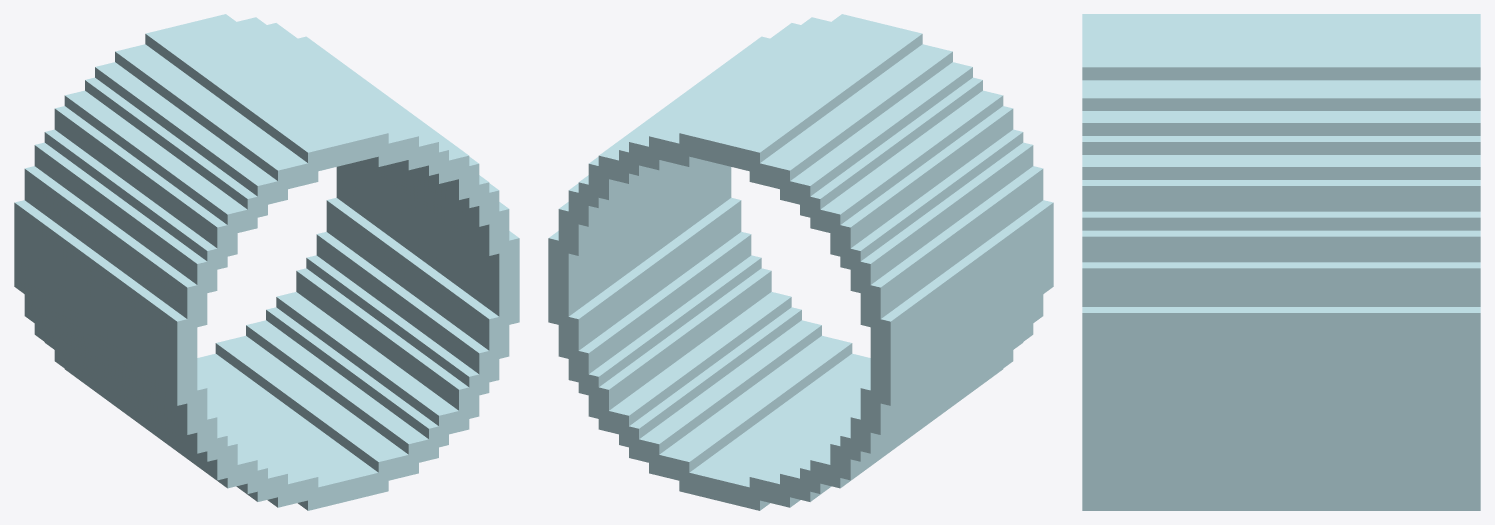
The model's file is bardak.fbx.
3 renders of one model, left to right at view 1: azimuth 30°, elevation 25°; view 2: azimuth 150°, elevation 25°; view 3: azimuth 270°, elevation 25°, orthographic. The views are drawn at different scales.
Visible parts, largest first — view 1: generated; view 2: generated; view 3: generated.
Part boxes in pixels (<box>): generated: <box>14,14,519,510</box>; generated: <box>548,14,1053,510</box>; generated: <box>1082,14,1480,510</box>.
Size of the model in its own units: 340 by 340 by 280.
